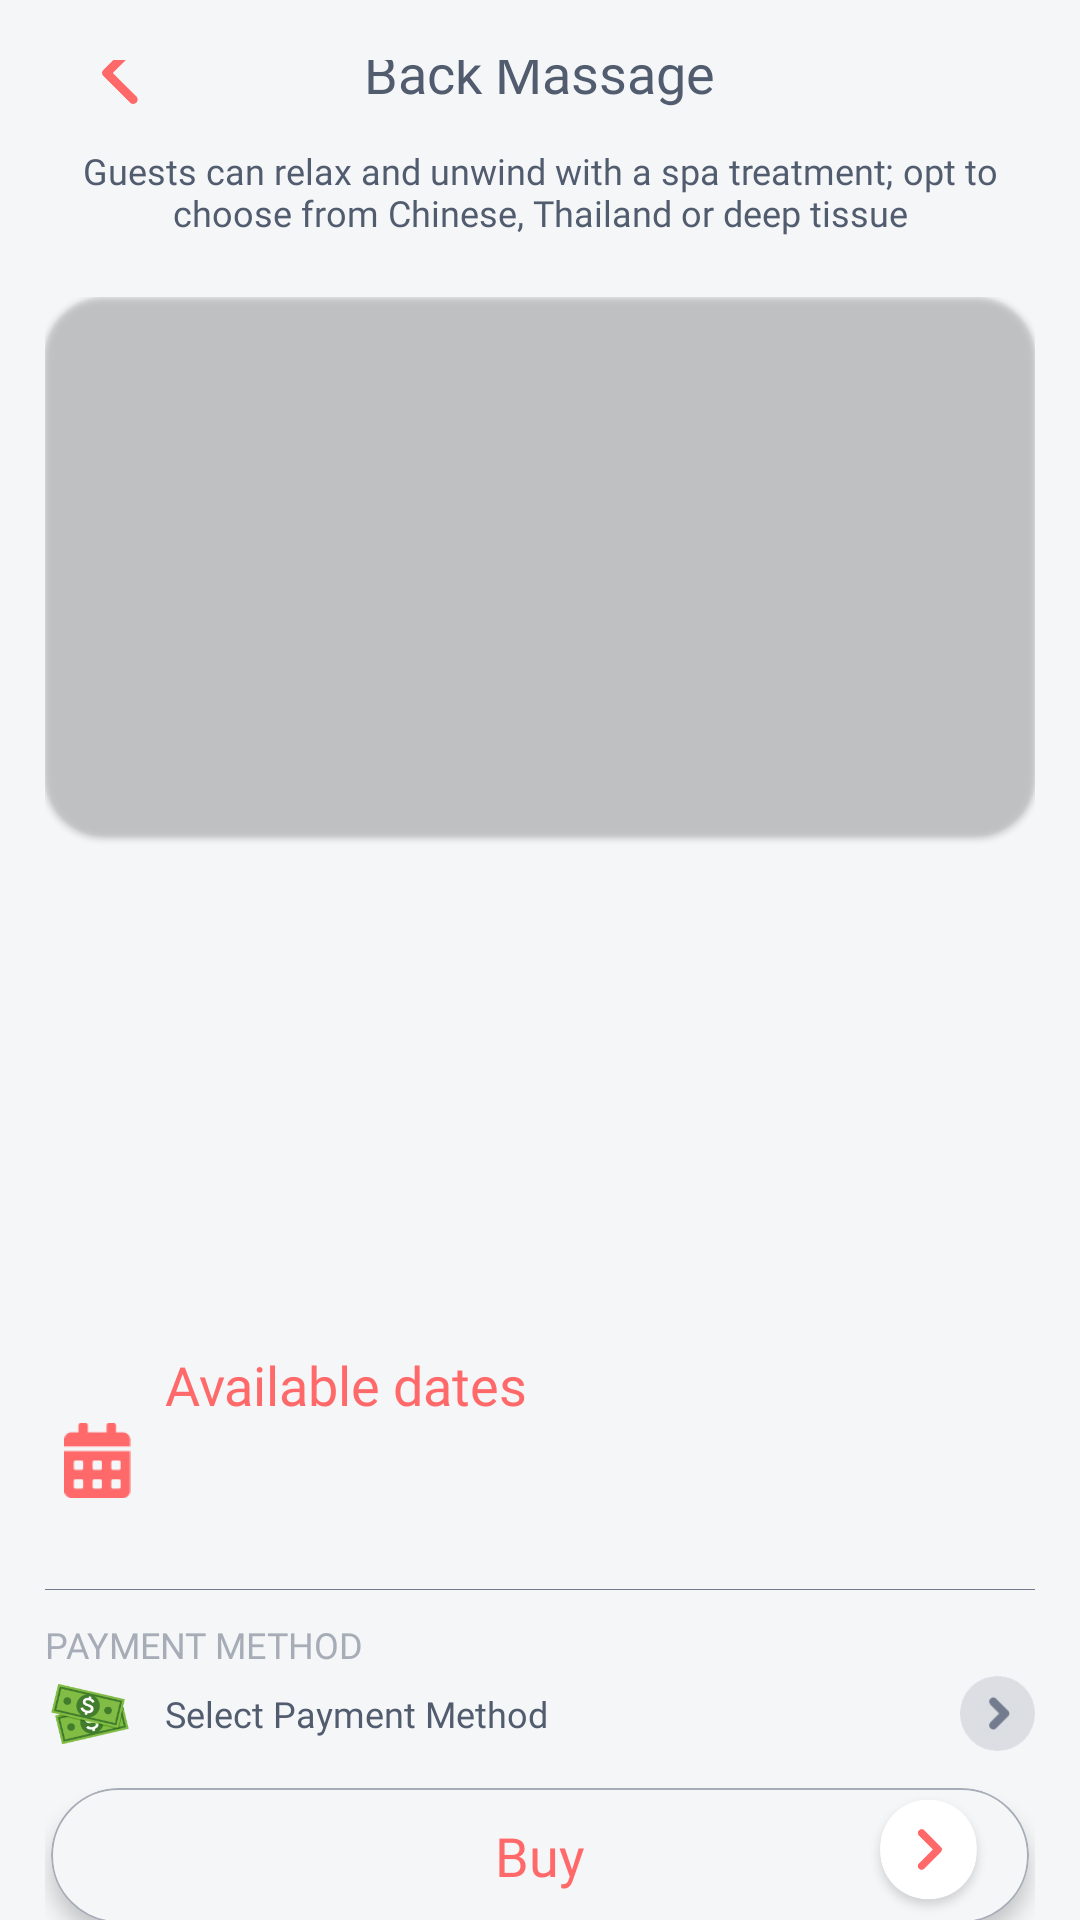

Point at icon controls on the screen. Image size 1080 x 1920, points as point (x, y).
back: point (120, 82)
calendar: point (97, 1460)
cash: point (90, 1714)
edit arrow: point (997, 1713)
